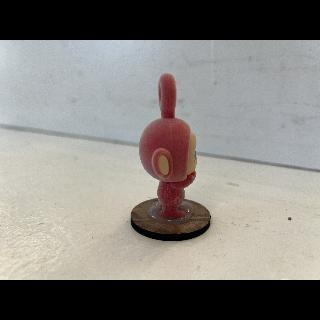teletubby: (139, 73, 197, 219)
